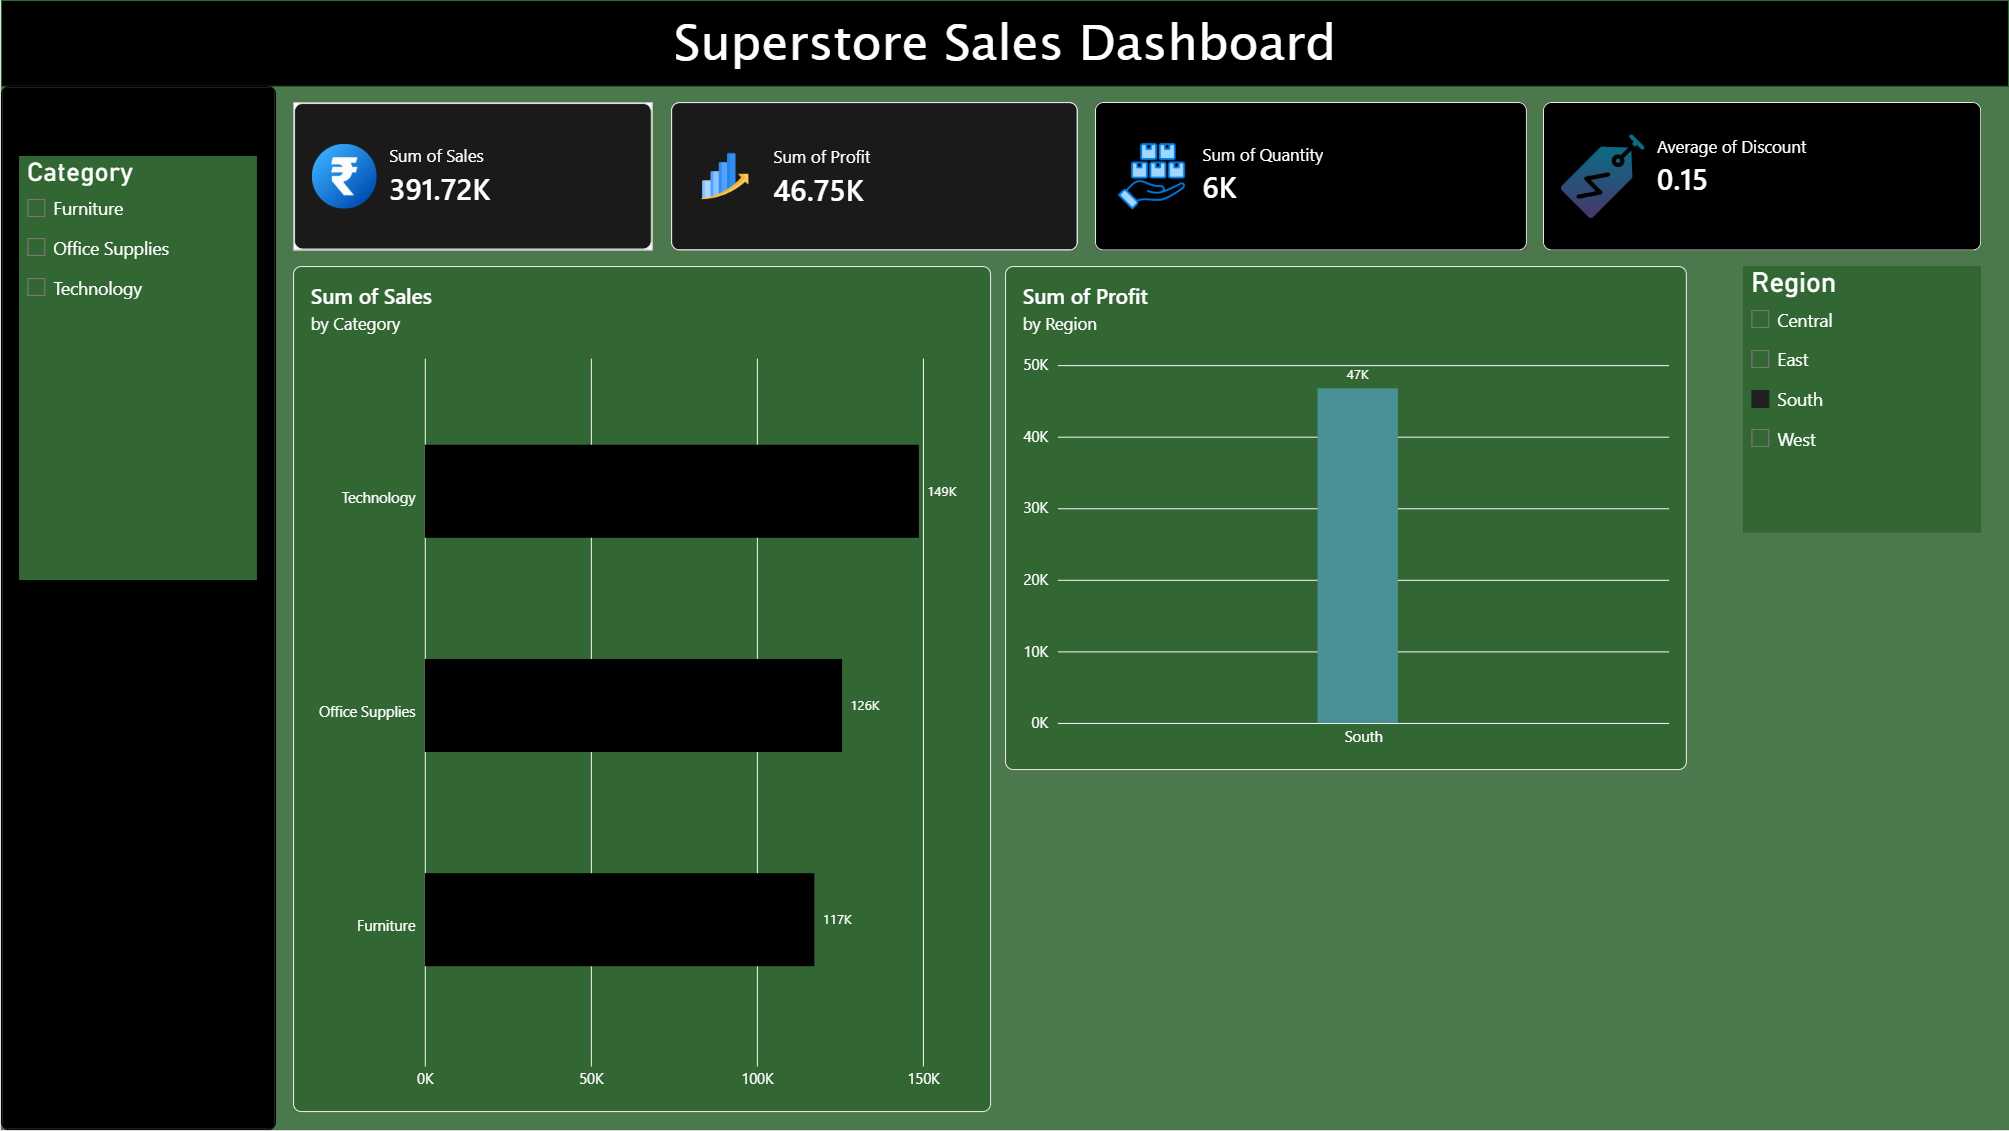

The page's visual inventory and layout, read from the dashboard file:
{"tool":"powerbi","page":{"name":"Page 1","canvas":[1920,1080],"ordinal":0},"visuals":[{"type":"cardVisual","fields":{"Data":["Sum(Sample - Superstore.Sales)"]},"box":[278.8,96.9,344.1,142.4],"z":0},{"type":"cardVisual","fields":{"Data":["Sum(Sample - Superstore.Profit)"]},"box":[640.7,96.9,389.5,142.4],"z":1000},{"type":"cardVisual","fields":{"Data":["Sum(Sample - Superstore.Quantity)"]},"box":[1046,96.9,413.3,142.4],"z":2000},{"type":"shape","box":[0,0,1920,83],"z":3000},{"type":"shape","box":[0,83,263,998.6],"z":4000},{"type":"cardVisual","fields":{"Data":["Avg(Sample - Superstore.Discount)"]},"box":[1475.1,96.9,419.2,142.4],"z":5000},{"type":"barChart","fields":{"Category":["Sample - Superstore.Category"],"Y":["Sum(Sample - Superstore.Sales)"]},"box":[279.2,254.3,667.4,808.9],"z":6000},{"type":"columnChart","fields":{"Category":["Sample - Superstore.Region"],"Y":["Sum(Sample - Superstore.Profit)"]},"box":[960,254.3,652.1,481.9],"z":7000},{"type":"slicer","fields":{"Values":["Sample - Superstore.Region"]},"box":[1665.7,254.3,227.4,255.1],"z":8000},{"type":"slicer","fields":{"Values":["Sample - Superstore.Category"]},"box":[17.2,149.2,227.6,405.4],"z":9000}]}

Visuals, with their boxes in screenshot pixels (x1, y1, x2, y2), scaled from the page's 1920x1080 canvas onto the 2009x1131 screenshot:
cardVisual - Sum(Sample - Superstore.Sales): (x1=292, y1=101, x2=652, y2=251)
cardVisual - Sum(Sample - Superstore.Profit): (x1=670, y1=101, x2=1078, y2=251)
cardVisual - Sum(Sample - Superstore.Quantity): (x1=1094, y1=101, x2=1527, y2=251)
shape: (x1=0, y1=0, x2=2008, y2=87)
shape: (x1=0, y1=87, x2=275, y2=1130)
cardVisual - Avg(Sample - Superstore.Discount): (x1=1543, y1=101, x2=1982, y2=251)
barChart - Sample - Superstore.Category x Sum(Sample - Superstore.Sales): (x1=292, y1=266, x2=990, y2=1113)
columnChart - Sample - Superstore.Region x Sum(Sample - Superstore.Profit): (x1=1004, y1=266, x2=1687, y2=771)
slicer - Sample - Superstore.Region: (x1=1743, y1=266, x2=1981, y2=533)
slicer - Sample - Superstore.Category: (x1=18, y1=156, x2=256, y2=581)
